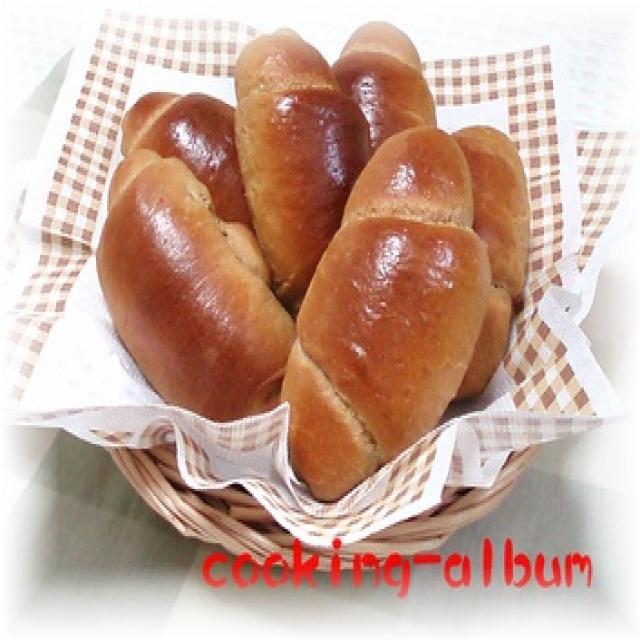面包点心: (107, 59, 526, 456)
